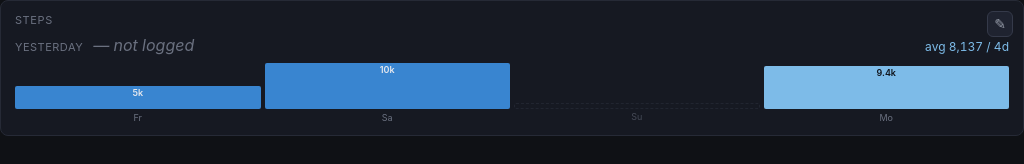
Test: StepsBlock › disables save for empty, zero, or non-integer input
Click the button with test id "block-edit". click: (1000, 24)
box: [987,11,1013,37]
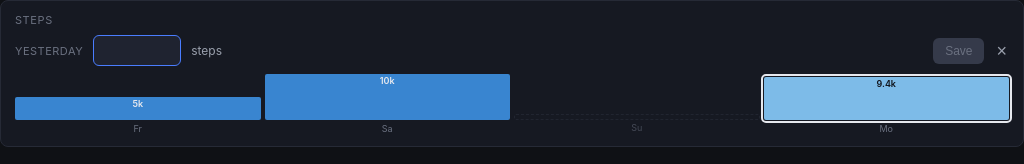
Result: the button with test id "steps-edit-save" is disabled at [933,38,984,64]
Type "12abc" into the field with test id "steps-edit-input". click: (137, 50)
box: [93,35,181,66]
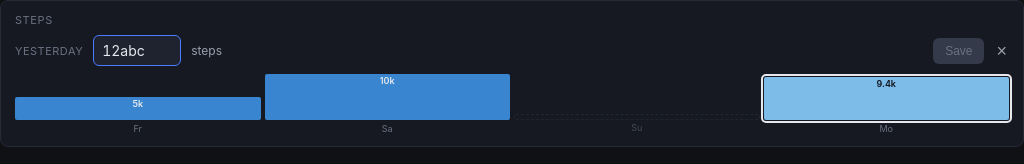
Result: the button with test id "steps-edit-save" is disabled at [933,38,984,64]
Replace the text in the field with test id "steps-edit-input" with "-5". click: (137, 50)
box: [93,35,181,66]
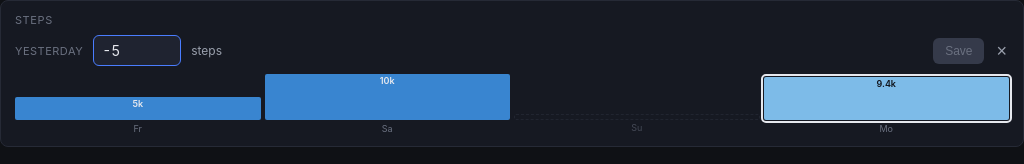
Result: the button with test id "steps-edit-save" is disabled at [933,38,984,64]
Replace the text in the field with test id "steps-edit-input" with "0". click: (137, 50)
box: [93,35,181,66]
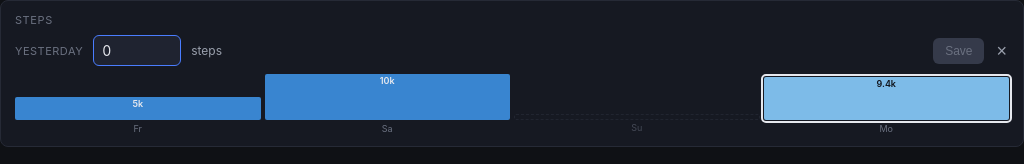
Result: the button with test id "steps-edit-save" is disabled at [933,38,984,64]
Replace the text in the field with test id "steps-edit-input" with "7500". click: (137, 50)
box: [93,35,181,66]
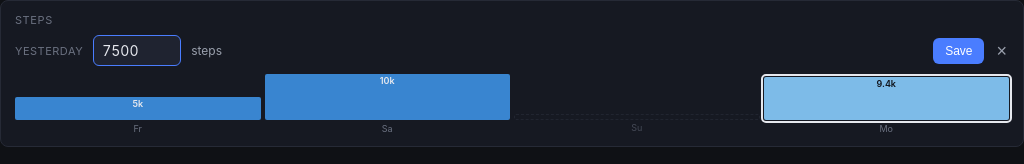
Result: the button with test id "steps-edit-save" is enabled at [933,38,984,64]
